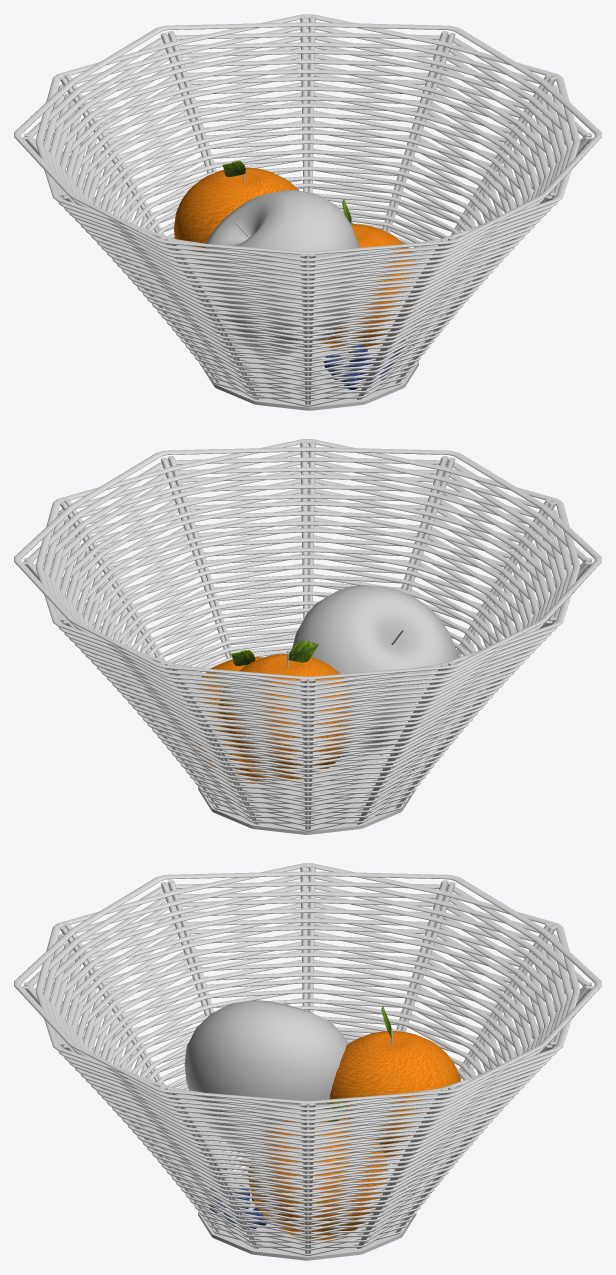
Rendered from fruit basket.FBX.
3 views of the same model, one above another, from view 1: azimuth 30°, elevation 25°; view 2: azimuth 150°, elevation 25°; view 3: azimuth 270°, elevation 25° (orthographic).
Parts seen in each view (by area): view 1: Korb2, Sphere001, Sphere006, Boden3, Sphere002; view 2: Korb2, Sphere001, Boden3, Sphere006, Sphere002; view 3: Korb2, Sphere001, Sphere006, Sphere002, Boden3.
Boxes of the visible parts, left/top/right/bottom form: Korb2: left=14, top=14, right=601, bottom=406; Sphere001: left=196, top=190, right=359, bottom=353; Sphere006: left=174, top=167, right=298, bottom=264; Boden3: left=201, top=338, right=418, bottom=410; Sphere002: left=320, top=224, right=419, bottom=350; Korb2: left=14, top=439, right=601, bottom=831; Sphere001: left=292, top=585, right=458, bottom=752; Boden3: left=198, top=752, right=415, bottom=834; Sphere006: left=217, top=654, right=353, bottom=779; Sphere002: left=187, top=657, right=274, bottom=783; Korb2: left=14, top=863, right=601, bottom=1255; Sphere001: left=184, top=1000, right=348, bottom=1145; Sphere006: left=329, top=1031, right=460, bottom=1157; Sphere002: left=248, top=1119, right=387, bottom=1240; Boden3: left=198, top=1175, right=416, bottom=1260.
Size of the model in its own units: 17.75 by 7.75 by 17.9.
